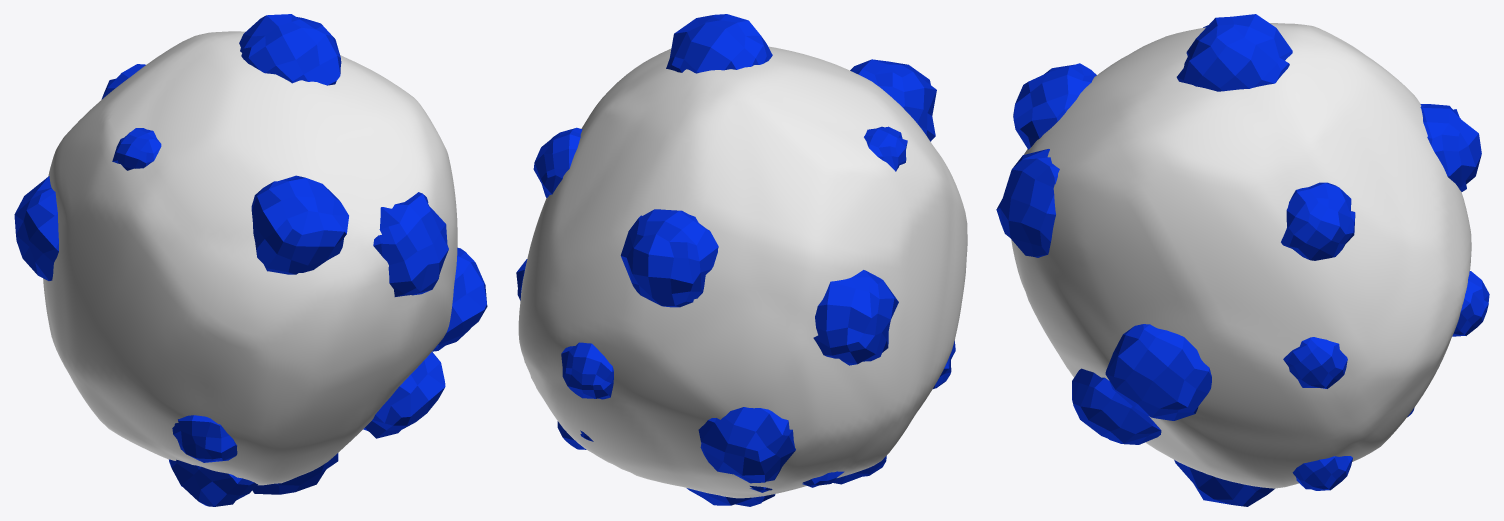
The model's file is BigGem.fbx.
3 renders of one model, left to right at view 1: azimuth 30°, elevation 25°; view 2: azimuth 150°, elevation 25°; view 3: azimuth 270°, elevation 25°, orthographic. The views are drawn at different scales.
Parts seen in each view (by area): view 1: Cube.002; view 2: Cube.002; view 3: Cube.002.
Boxes of the visible parts, left/top/right/bottom form: Cube.002: left=14, top=14, right=487, bottom=506; Cube.002: left=516, top=14, right=967, bottom=506; Cube.002: left=996, top=14, right=1489, bottom=506.
Bounding box in the file's own units: 478 × 580 × 534.
